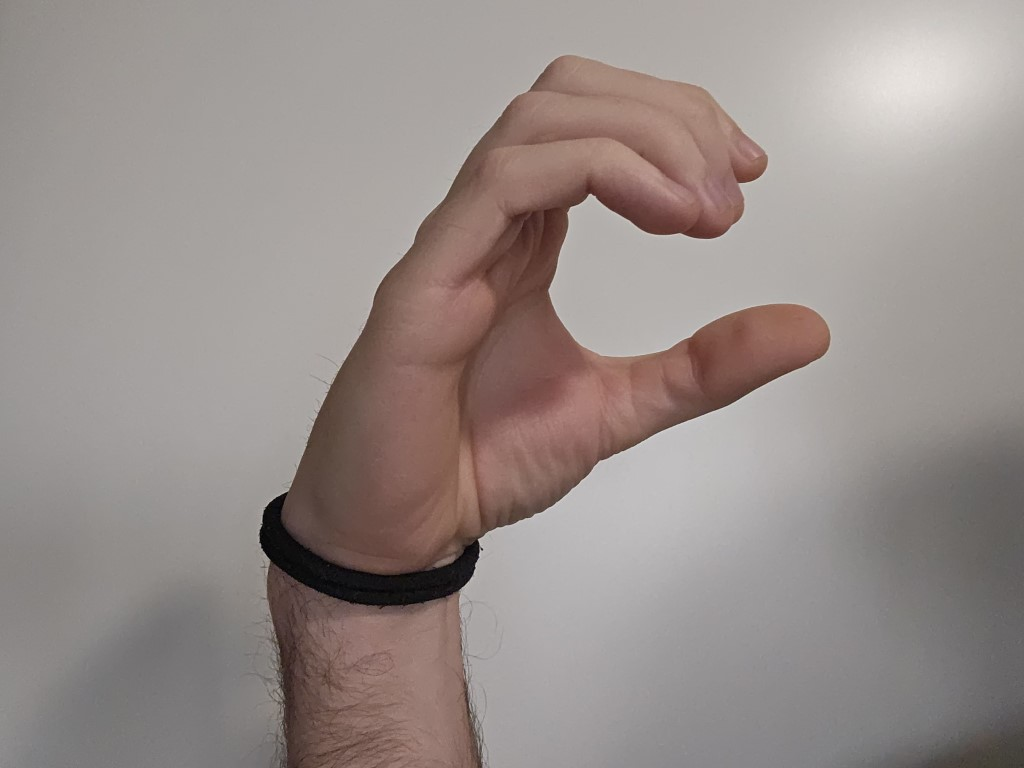c: (287, 31, 866, 531)
